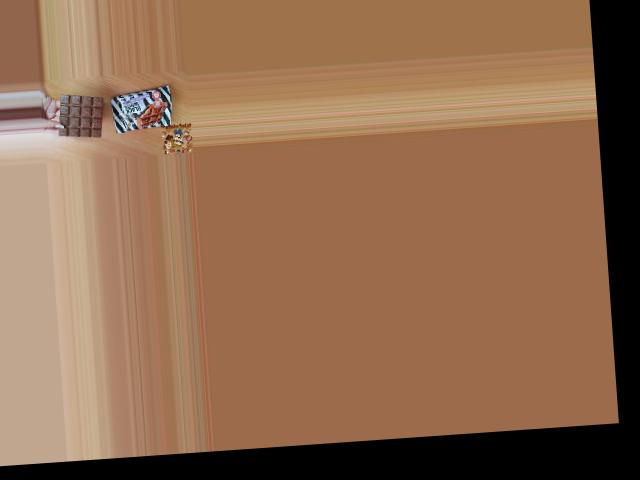chocolate: (107, 86, 176, 131)
